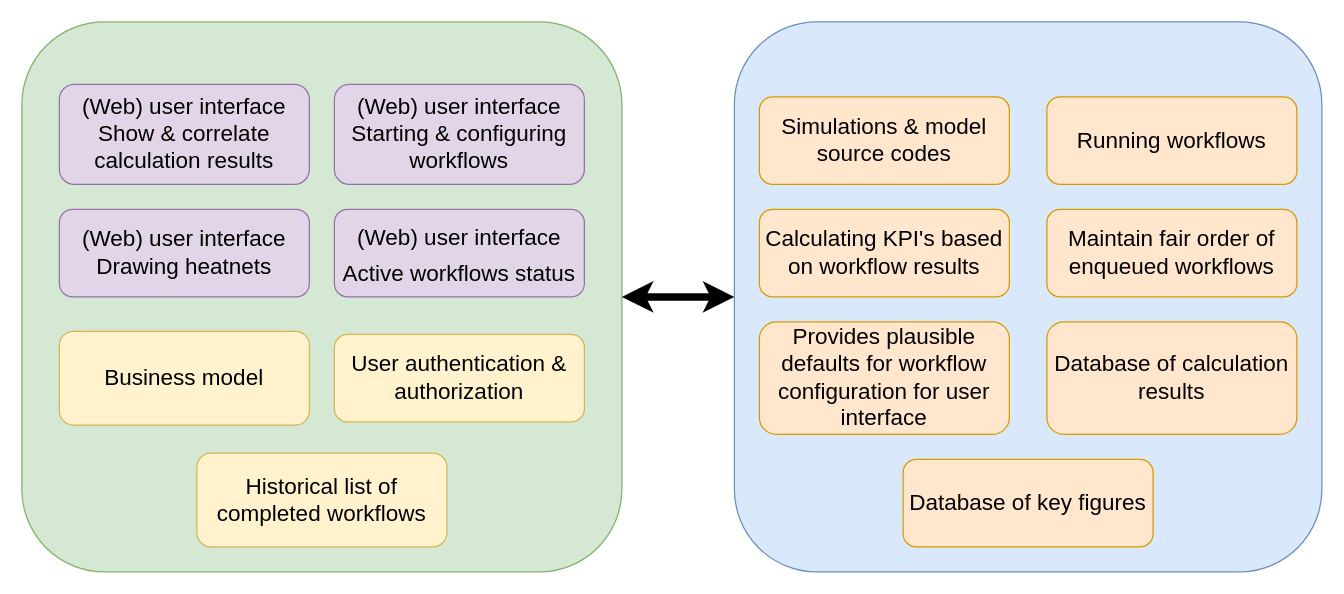
This 1344x594 diagram has some shape labels left out. The box of each missing label's shape, as (x1, y1, x2, y2) in pixels:
Backend (Open source): (733, 21, 1322, 572)
Frontend: (21, 21, 622, 572)
